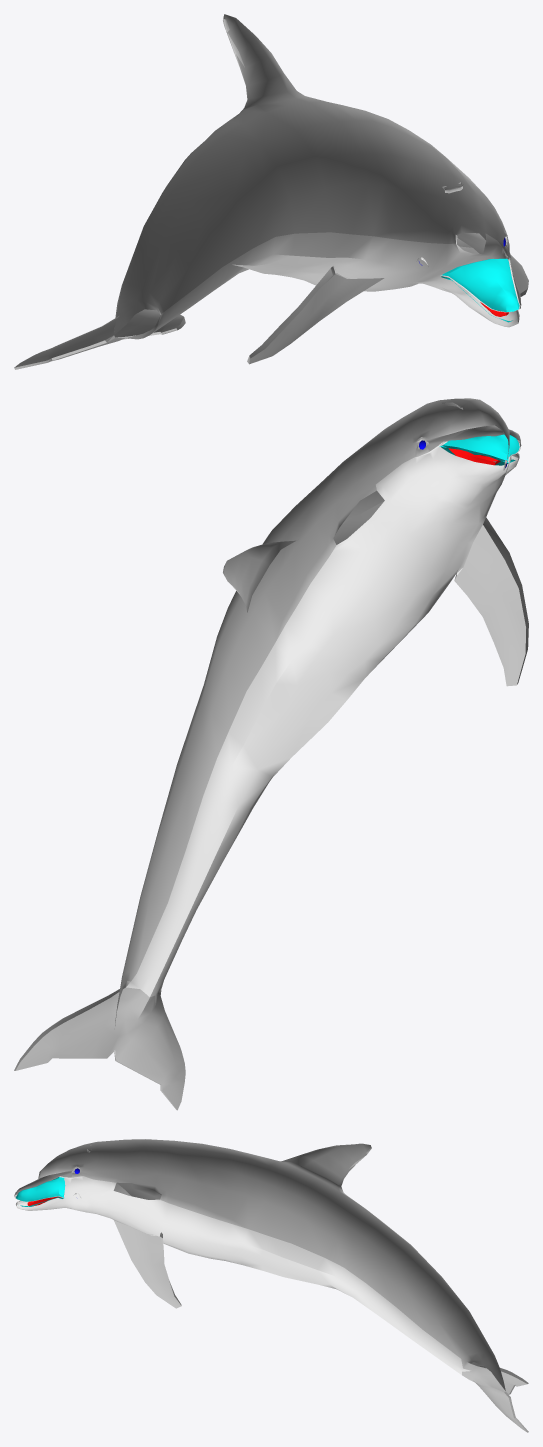
Rendered from dolphin.gltf.
3 views of the same model, one above another, from view 1: azimuth 30°, elevation 25°; view 2: azimuth 150°, elevation 25°; view 3: azimuth 270°, elevation 25° (orthographic). The views are drawn at different scales.
Parts seen in each view (by area): view 1: PolyFaceMesh-ACI 8, PolyFaceMesh-Mat, PolyFaceMesh; view 2: PolyFaceMesh-ACI 8, PolyFaceMesh-Mat, PolyFaceMesh; view 3: PolyFaceMesh-ACI 8, PolyFaceMesh-Mat, PolyFaceMesh.
Part boxes in pixels (left/top/right/bottom): PolyFaceMesh-ACI 8: left=14, top=14, right=528, bottom=369; PolyFaceMesh-Mat: left=107, top=18, right=520, bottom=342; PolyFaceMesh: left=440, top=258, right=519, bottom=322; PolyFaceMesh-ACI 8: left=14, top=398, right=528, bottom=1110; PolyFaceMesh-Mat: left=114, top=439, right=520, bottom=1058; PolyFaceMesh: left=439, top=434, right=519, bottom=465; PolyFaceMesh-ACI 8: left=14, top=1139, right=528, bottom=1432; PolyFaceMesh-Mat: left=14, top=1148, right=486, bottom=1374; PolyFaceMesh: left=16, top=1177, right=65, bottom=1206.
Bounding box in the file's own units: 106 × 161 × 284.
